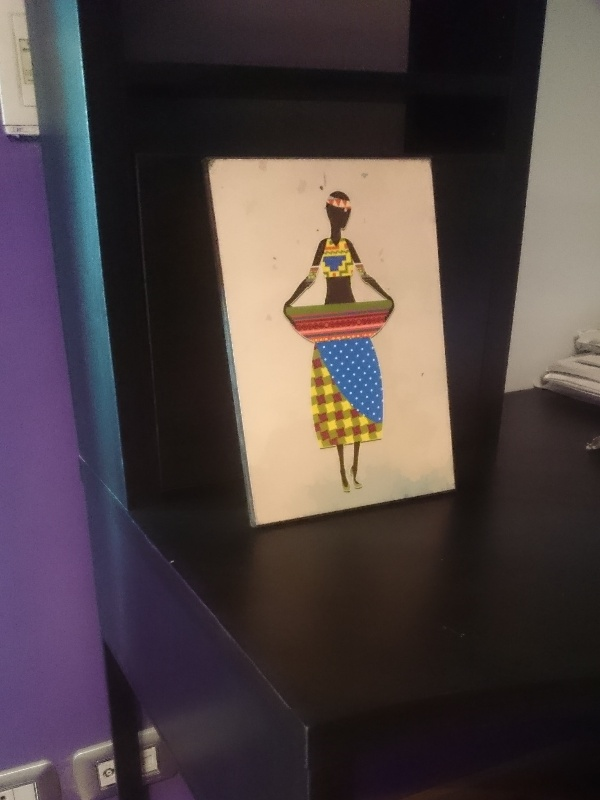my image: (209, 160, 453, 523)
